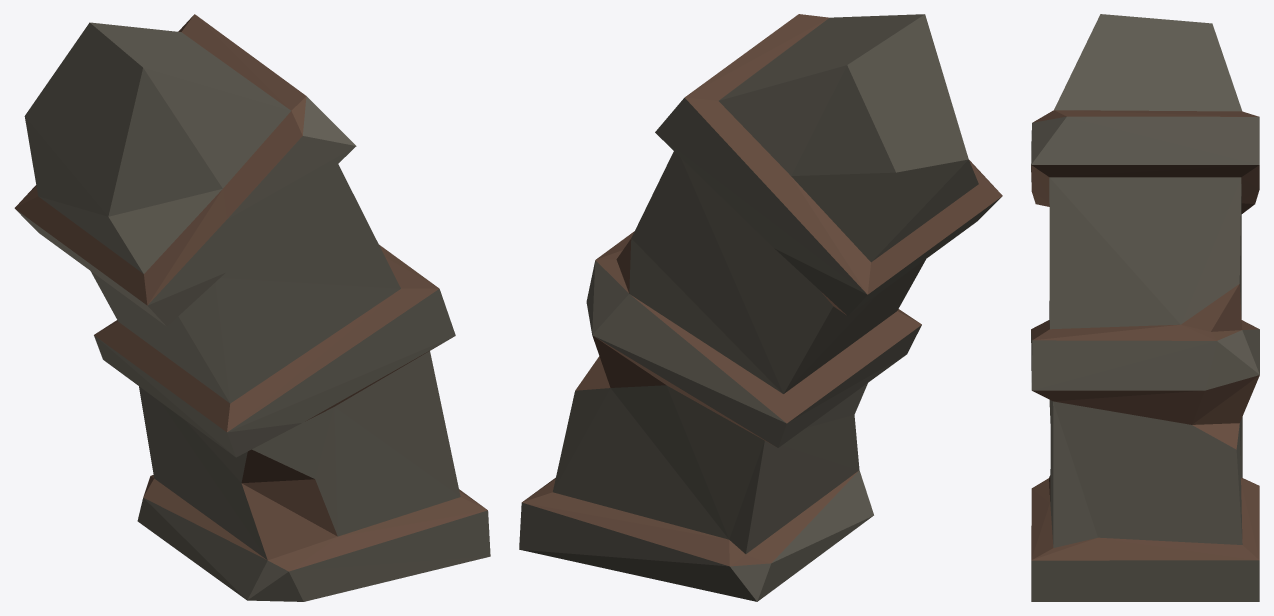
File: synty-prop-pillar-arch-broken-moss-01.gltf
The picture shows the model from 3 angles, left to right: view 1: azimuth 30°, elevation 25°; view 2: azimuth 150°, elevation 25°; view 3: azimuth 270°, elevation 25°; orthographic projection. The views are drawn at different scales.
Visible parts, largest first — view 1: SM_Prop_Pillar_Arch_Broken_Moss_01; view 2: SM_Prop_Pillar_Arch_Broken_Moss_01; view 3: SM_Prop_Pillar_Arch_Broken_Moss_01.
Part boxes in pixels (x1,y1,x2,y2): SM_Prop_Pillar_Arch_Broken_Moss_01: (14, 14, 490, 601); SM_Prop_Pillar_Arch_Broken_Moss_01: (519, 14, 1002, 601); SM_Prop_Pillar_Arch_Broken_Moss_01: (1031, 14, 1259, 601).
Bounding box in the file's own units: 0.61 × 0.8866 × 0.3998.
Materials: 1 (1 with a texture image).
